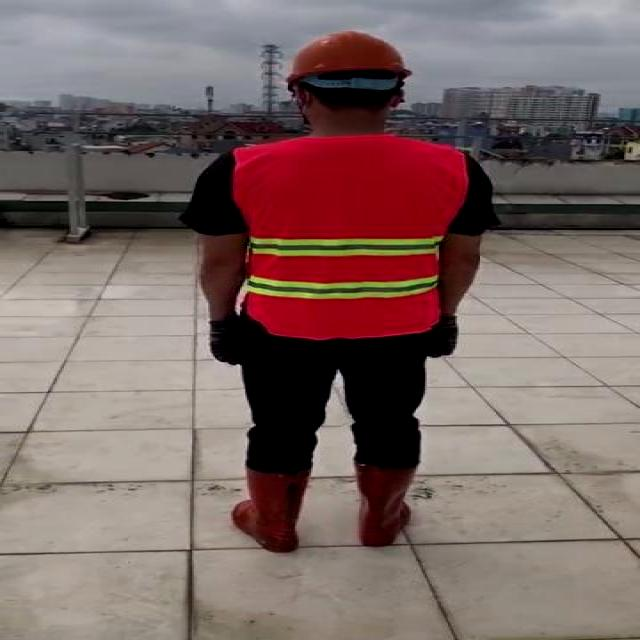boots: (233, 469, 313, 554), (354, 464, 419, 547)
hand_glove: (426, 316, 458, 358), (210, 319, 236, 365)
head_helmet: (284, 30, 416, 86)
person: (178, 29, 501, 562)
vest: (237, 135, 468, 336)
